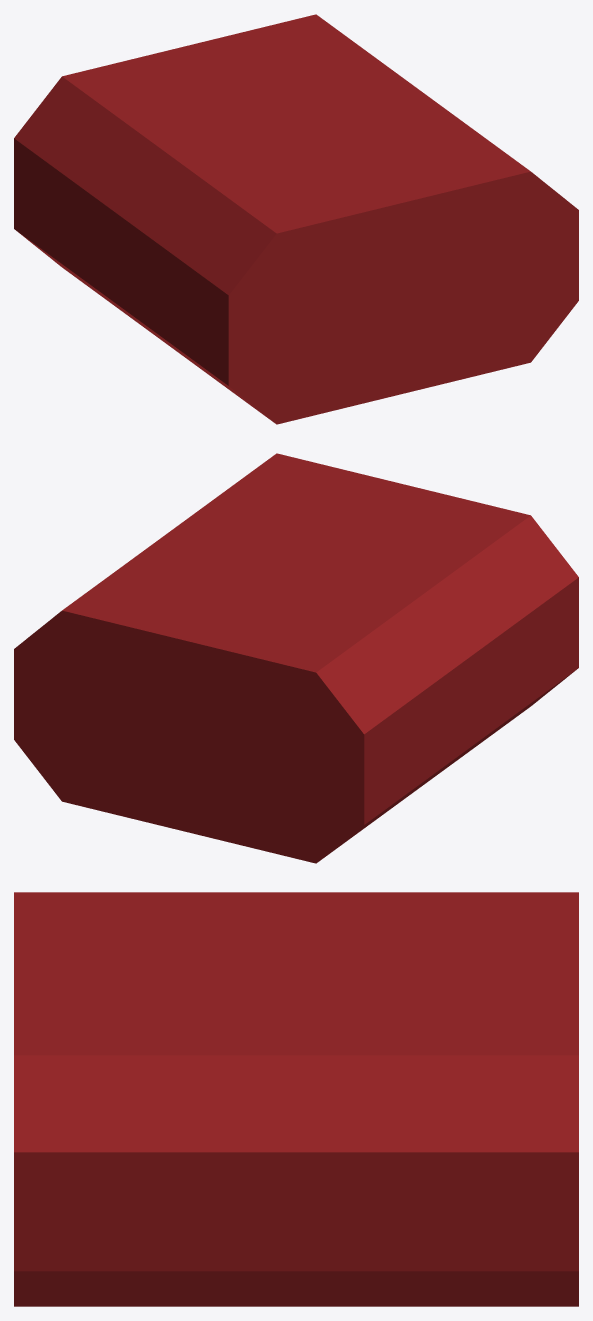
File: TongueConnect.fbx
3 views of the same model, one above another, from view 1: azimuth 30°, elevation 25°; view 2: azimuth 150°, elevation 25°; view 3: azimuth 270°, elevation 25° (orthographic). The views are drawn at different scales.
Visible parts, largest first — view 1: Cube.006; view 2: Cube.006; view 3: Cube.006.
Boxes of the visible parts, x1=… form: Cube.006: x1=14, y1=14, x2=578, y2=424; Cube.006: x1=14, y1=453, x2=578, y2=863; Cube.006: x1=14, y1=892, x2=578, y2=1306.
Bounding box in the file's own units: 43.8 × 22.83 × 46.53.
